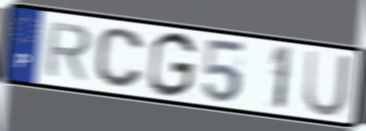1: (268, 44, 293, 114)
5: (200, 37, 247, 105)
C: (93, 26, 146, 91)
G: (146, 30, 199, 100)
R: (42, 20, 94, 83)
U: (302, 47, 354, 119)
